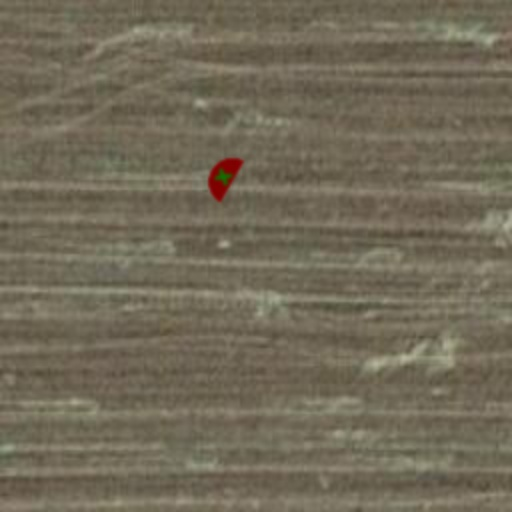semicircle: (188, 142, 256, 210)
